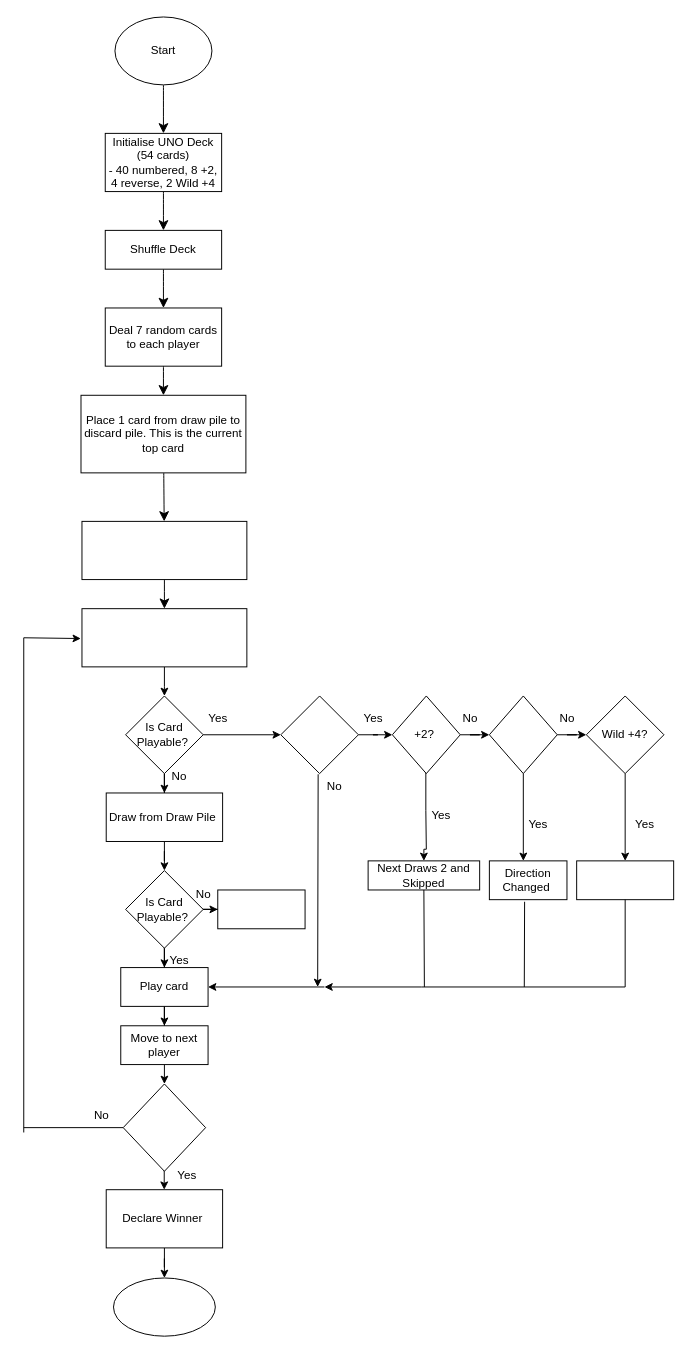
The diagram is 691 pixels wide and 1353 high, and some of its shapes have lost their labels. The shapes that lost their labels are listed below. From the top down, each one's box as (x1, y1, x2, y2) in pixels, then its label:
(81, 520, 247, 580): Set direction & Current Player
(81, 608, 247, 667): While no one has 0 cards: -Show Player Hand - Check Playable Card
(280, 695, 358, 774): Special Card?
(488, 695, 557, 774): Reverse?
(576, 860, 674, 900): Pick Colour, Next Draws 4 and Skipped
(217, 889, 305, 929): Keep Card
(122, 1083, 206, 1171): Does Current Player have zero cards?
(113, 1277, 215, 1336): End
